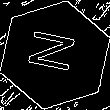N_E: (25, 30, 85, 80)
